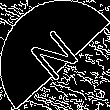N_SE: (25, 22, 85, 88)
